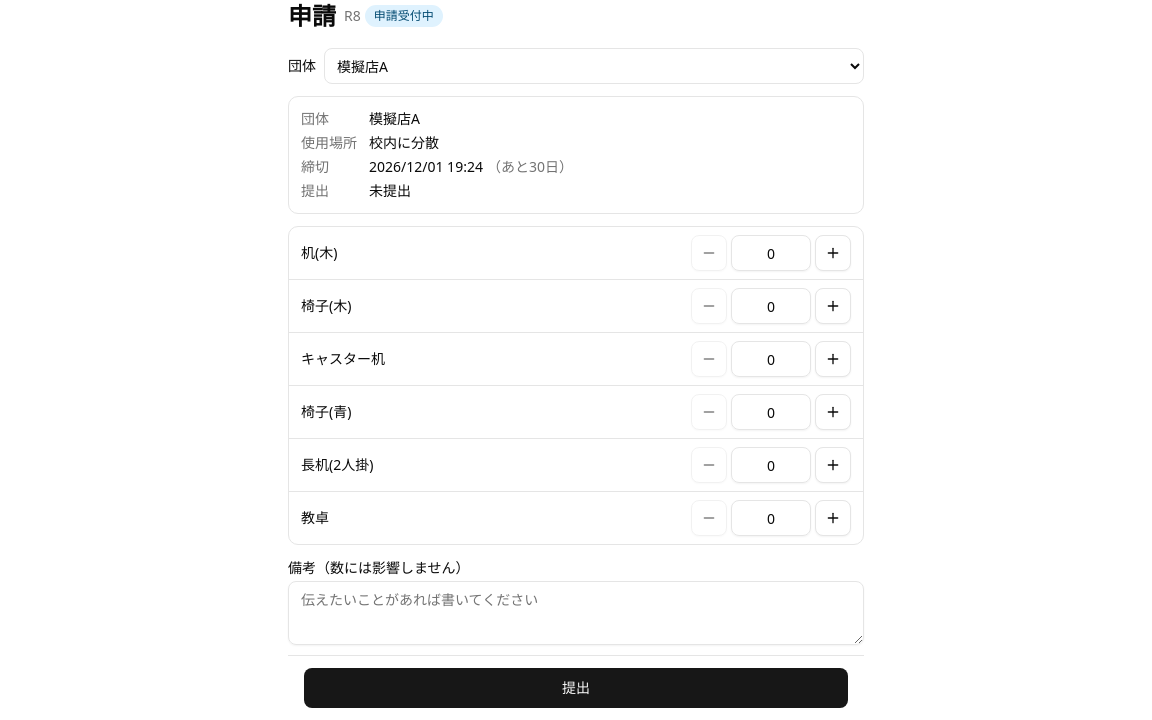
申請 /request › 提出の応答が届かなかったとき（設計 2.6 の (A)） › 自分の提出が通った後に、ほかの人が品目の行だけを変えていれば「ほかの人がこの団体の申請を変えました」で確かめる（ほかの人の提出とは言わない）
This screenshot has width=1152, height=720.
Click the button named "机(木)の数を1増やす" at (833, 253), box 815,235 -> 851,271
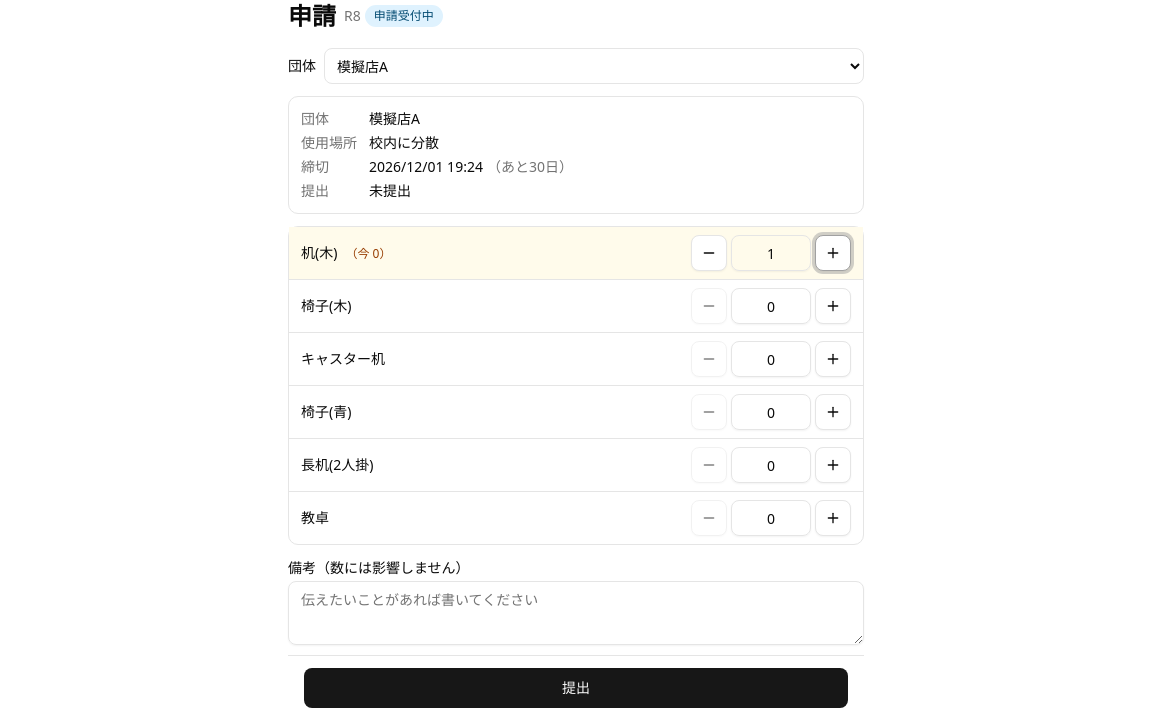
Click the button "提出" at (576, 688), box 304,668 -> 848,708
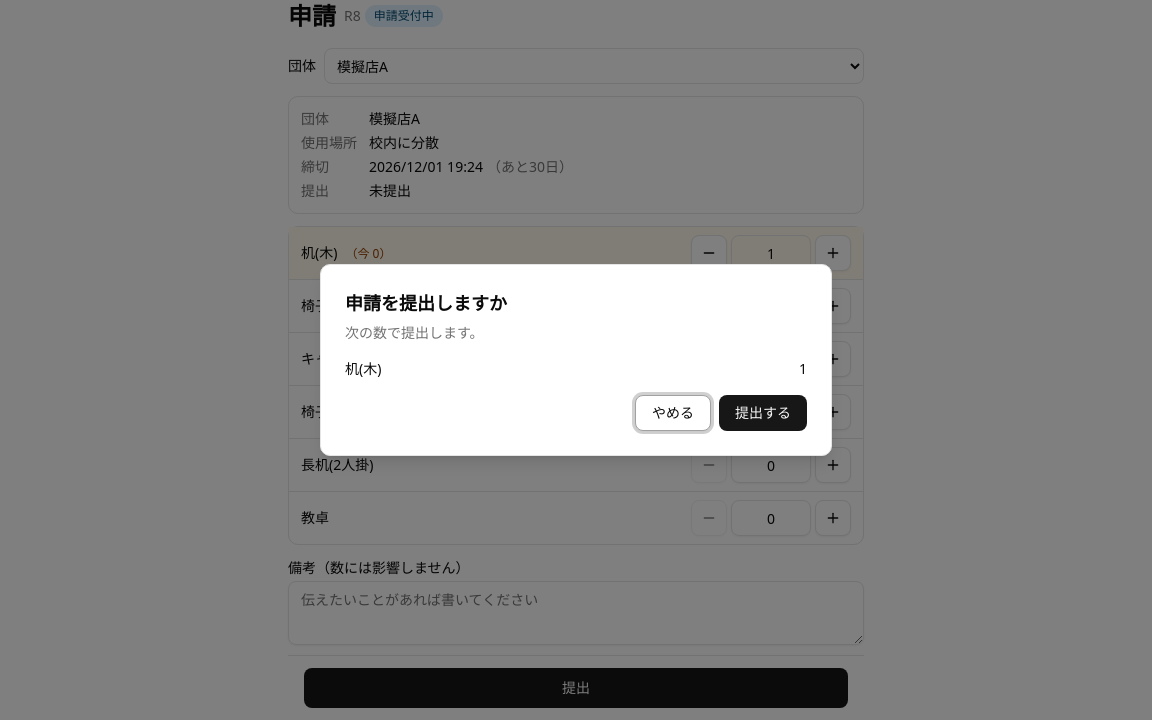
Click the button "提出する" at (763, 413), box 719,395 -> 807,431
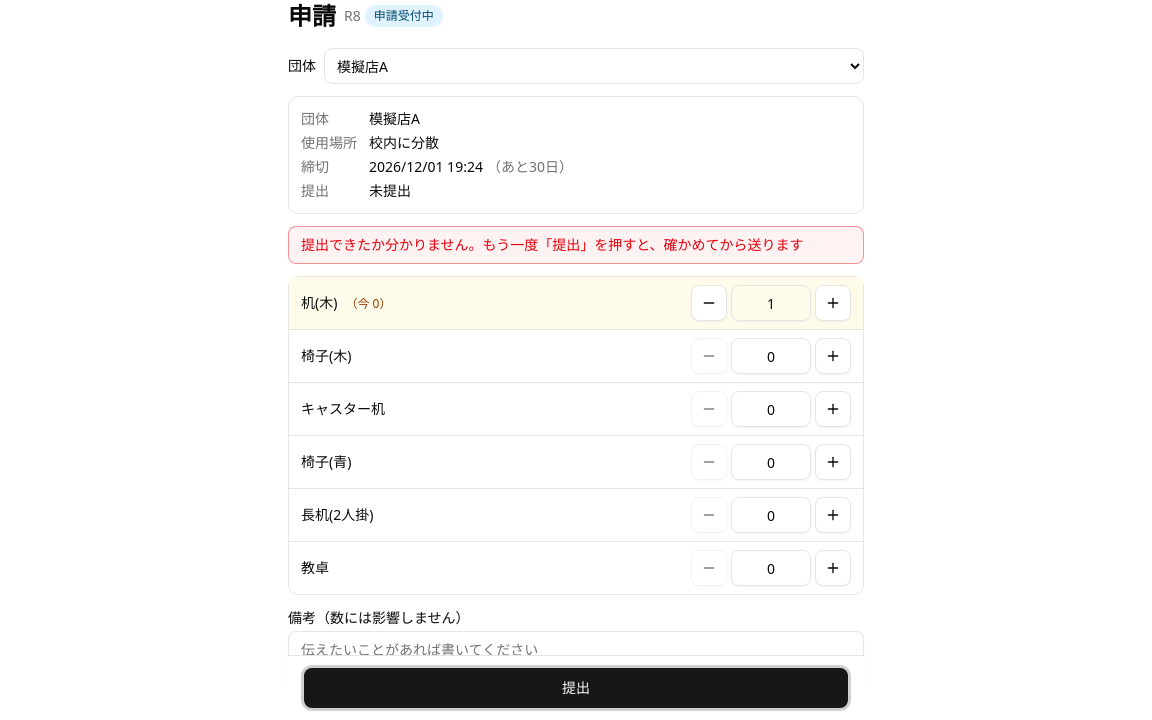
Expected: the message with test id "submit-error" reads "提出できたか分かりません。もう一度「提出」を押すと、確かめてから送ります", 301,235 -> 804,254
Click the button "提出" at (576, 688), box 304,668 -> 848,708
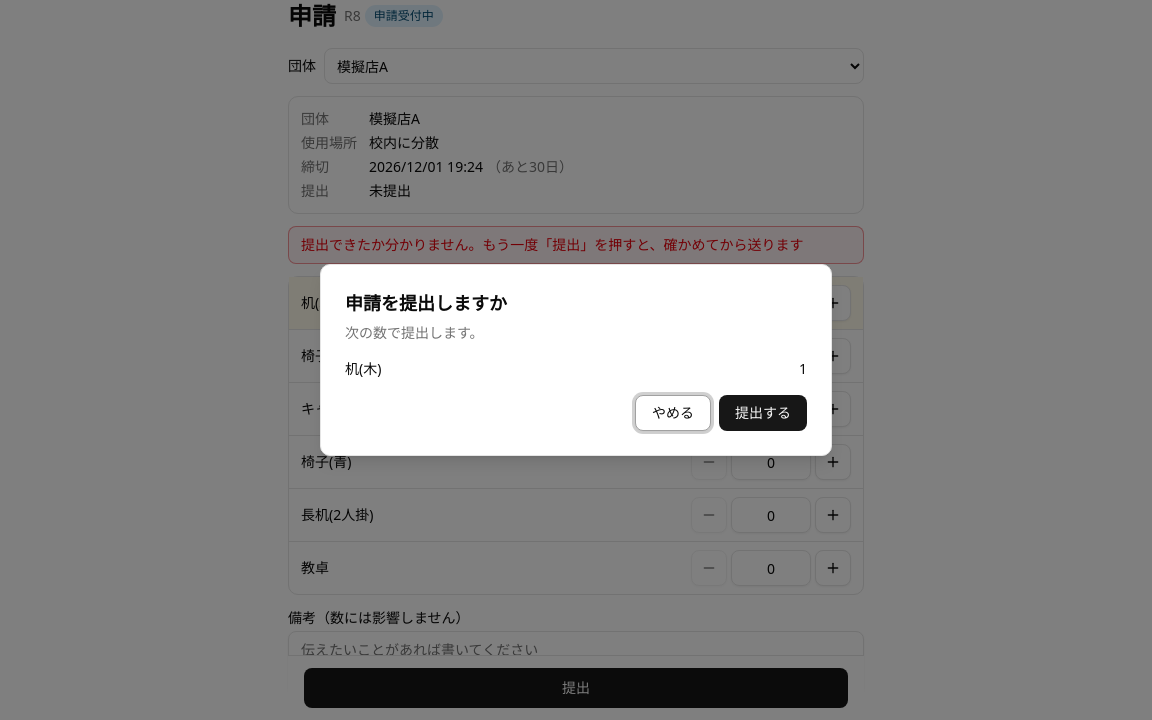
Click the button "提出する" at (763, 413), box 719,395 -> 807,431
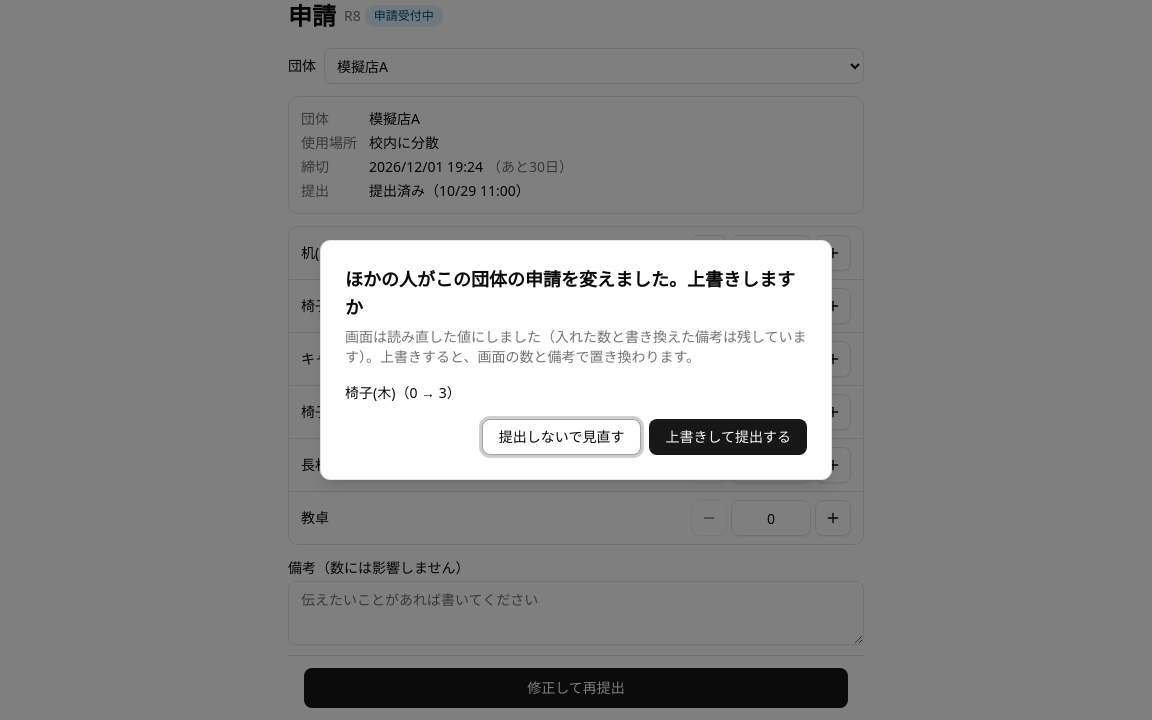
Expected: the list with test id "request-conflicts" reads "椅子(木)（0 → 3）", 345,383 -> 461,402
